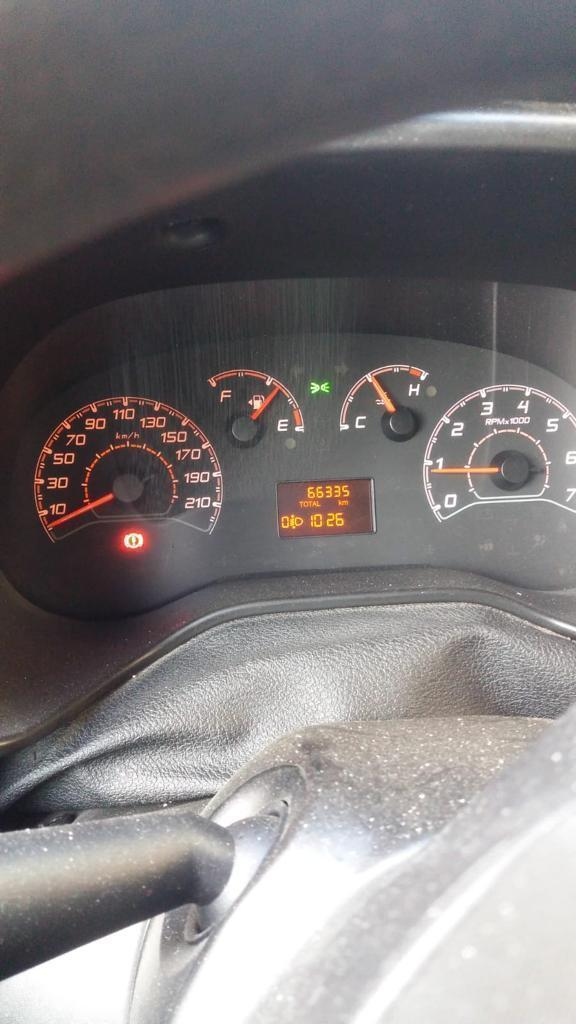0: (313, 513, 322, 528), (281, 515, 289, 528)
1: (308, 514, 313, 527)
2: (326, 513, 334, 526)
3: (324, 485, 332, 497), (333, 485, 340, 497)
5: (341, 484, 350, 497)
6: (335, 511, 344, 527), (306, 486, 315, 499), (315, 486, 323, 498)
X: (298, 501, 303, 508), (303, 500, 308, 507), (337, 499, 342, 505), (342, 500, 348, 505), (308, 500, 312, 507), (312, 500, 316, 507), (316, 500, 320, 506)
odometer: (271, 475, 379, 541)
